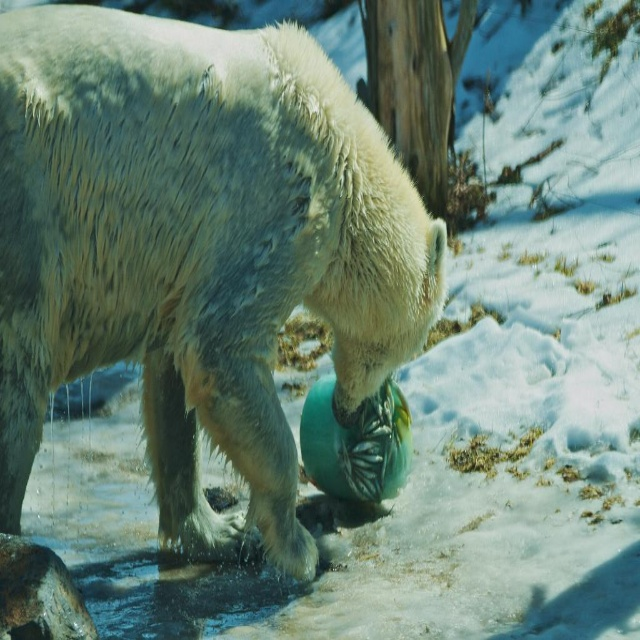Polar bear: (0, 4, 450, 582)
